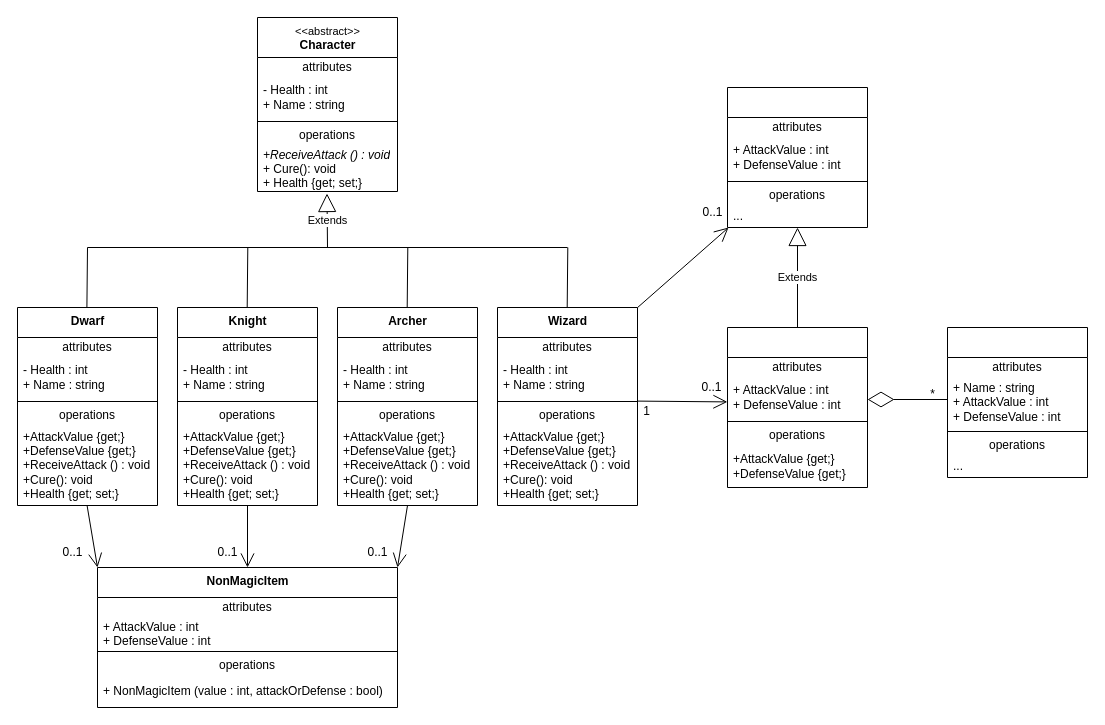
This 1105x725 diagram has some shape labels left out. The shapes that lost their labels are listed below. From the top down, each one's box as (x1, y1, x2, y2) in pixels, then its label:
(726, 86, 868, 228): MagicItem
(726, 326, 868, 488): SpellsBook
(946, 326, 1088, 478): Spell
